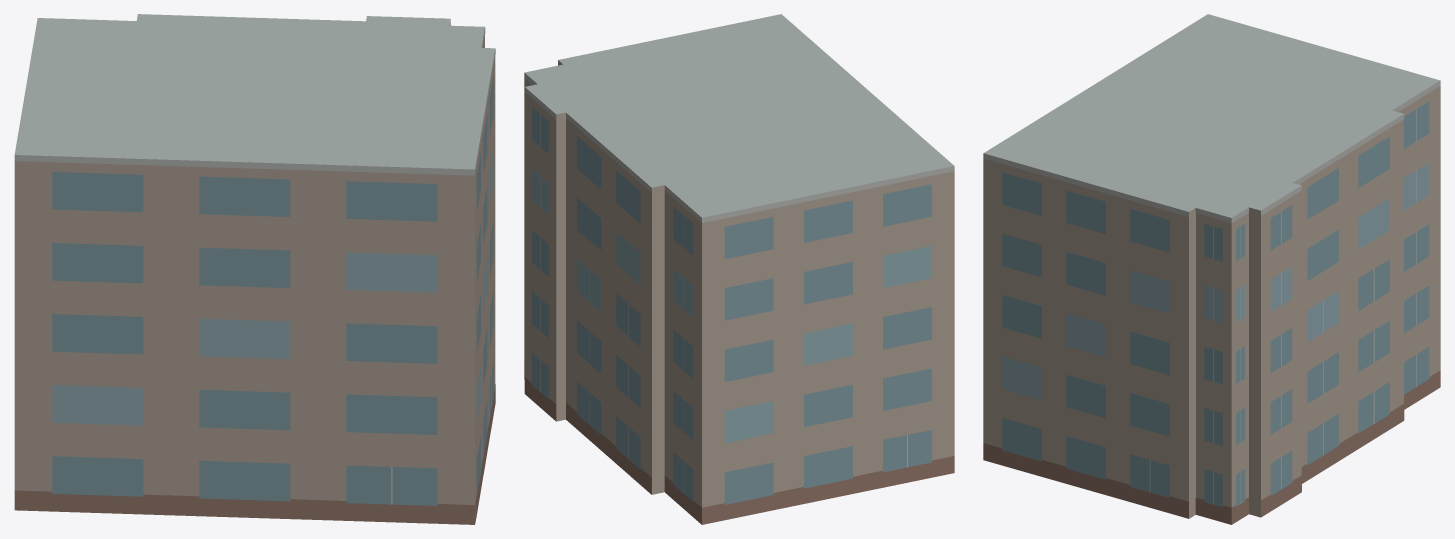
File: survey-upis-32670149.glb
3 renders of one model, left to right at view 1: azimuth 30°, elevation 25°; view 2: azimuth 150°, elevation 25°; view 3: azimuth 270°, elevation 25°, orthographic. The views are drawn at different scales.
Parts seen in each view (by area): view 1: survey-upis-32670149.tmp; view 2: survey-upis-32670149.tmp; view 3: survey-upis-32670149.tmp.
Boxes of the visible parts, left/top/right/bottom form: survey-upis-32670149.tmp: left=14, top=14, right=495, bottom=524; survey-upis-32670149.tmp: left=524, top=14, right=954, bottom=524; survey-upis-32670149.tmp: left=983, top=14, right=1440, bottom=524.
Bounding box in the file's own units: 20.18 × 14.15 × 19.11.
